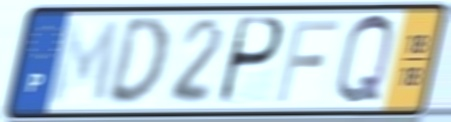2: (166, 15, 227, 108)
D: (103, 14, 170, 111)
F: (273, 16, 343, 105)
M: (46, 17, 123, 108)
P: (214, 14, 288, 109)
Q: (332, 11, 396, 110)
